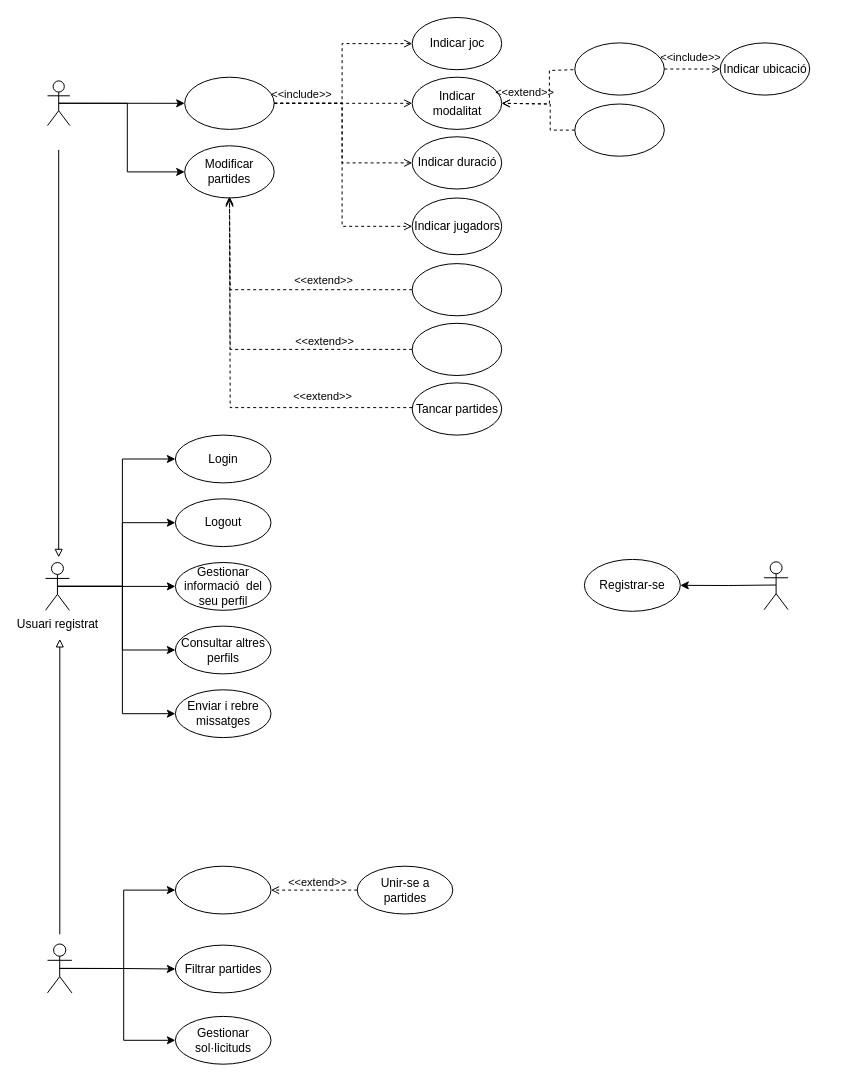
The diagram is 843 pixels wide and 1082 high, and some of its shapes have lost their labels. Each missing label, with the box of its shape:
Cercar partides: (174, 865, 271, 914)
Game Master: (46, 80, 70, 126)
Gestionar participants: (411, 263, 502, 316)
Gestionar sol·licituts de jugadors: (411, 322, 502, 376)
Jugador: (46, 943, 72, 993)
Online: (574, 103, 664, 156)
Presencial: (574, 42, 664, 95)
Publicar partides: (184, 76, 274, 129)
Usuari no registrat: (763, 561, 788, 610)
